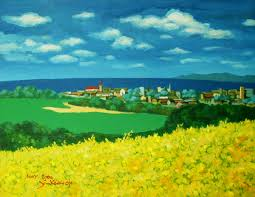field: (4, 86, 247, 134)
flower: (4, 143, 254, 196)
sky: (3, 3, 253, 80)
